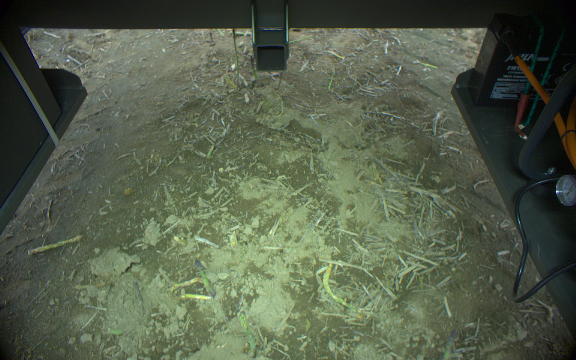aspa: (320, 262, 362, 316), (28, 233, 86, 257), (236, 310, 256, 358), (192, 258, 212, 297), (170, 274, 212, 292), (232, 28, 244, 90), (131, 280, 147, 317), (249, 55, 262, 87), (179, 290, 213, 301)
